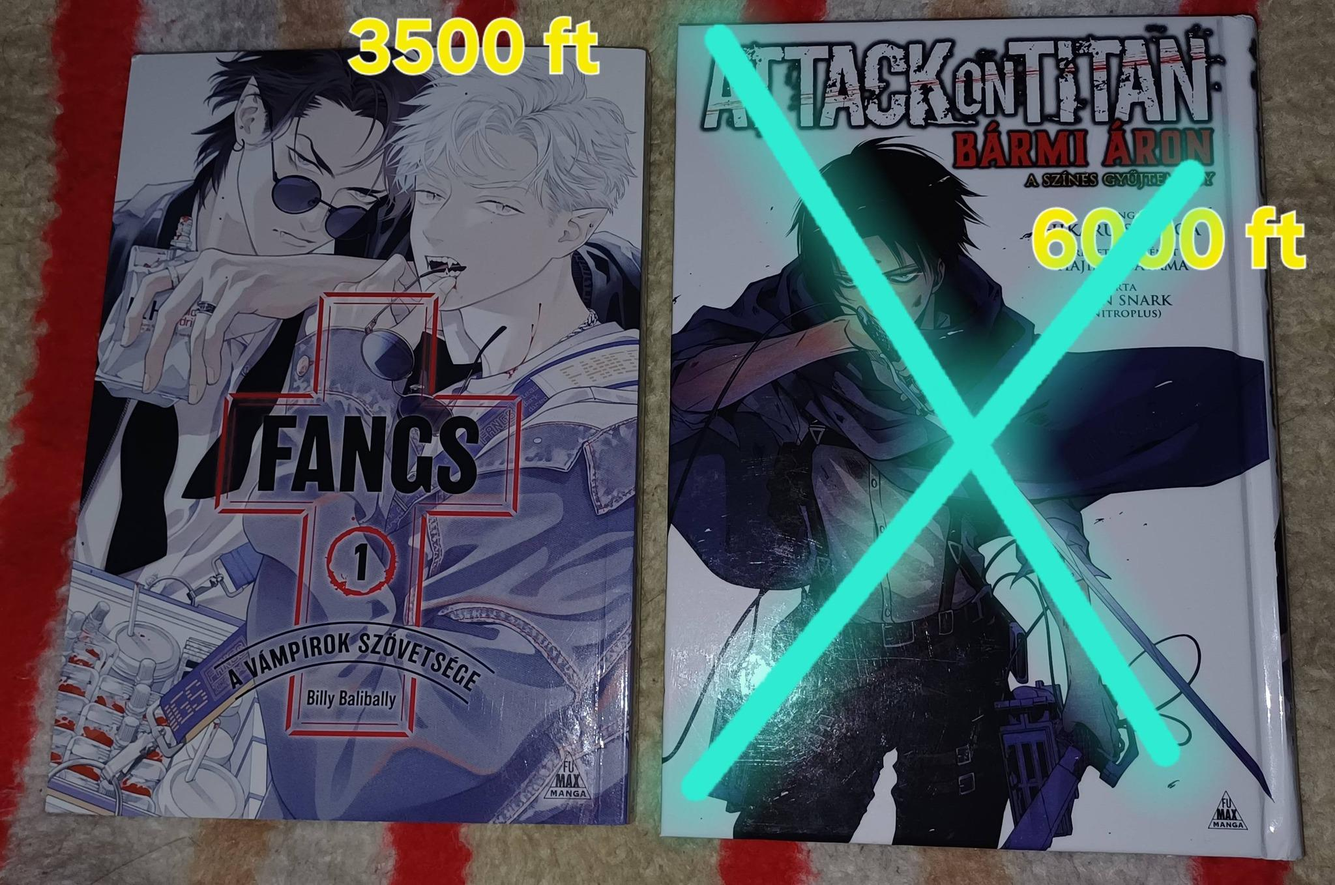comic: (662, 11, 1309, 858), (47, 39, 645, 824)
